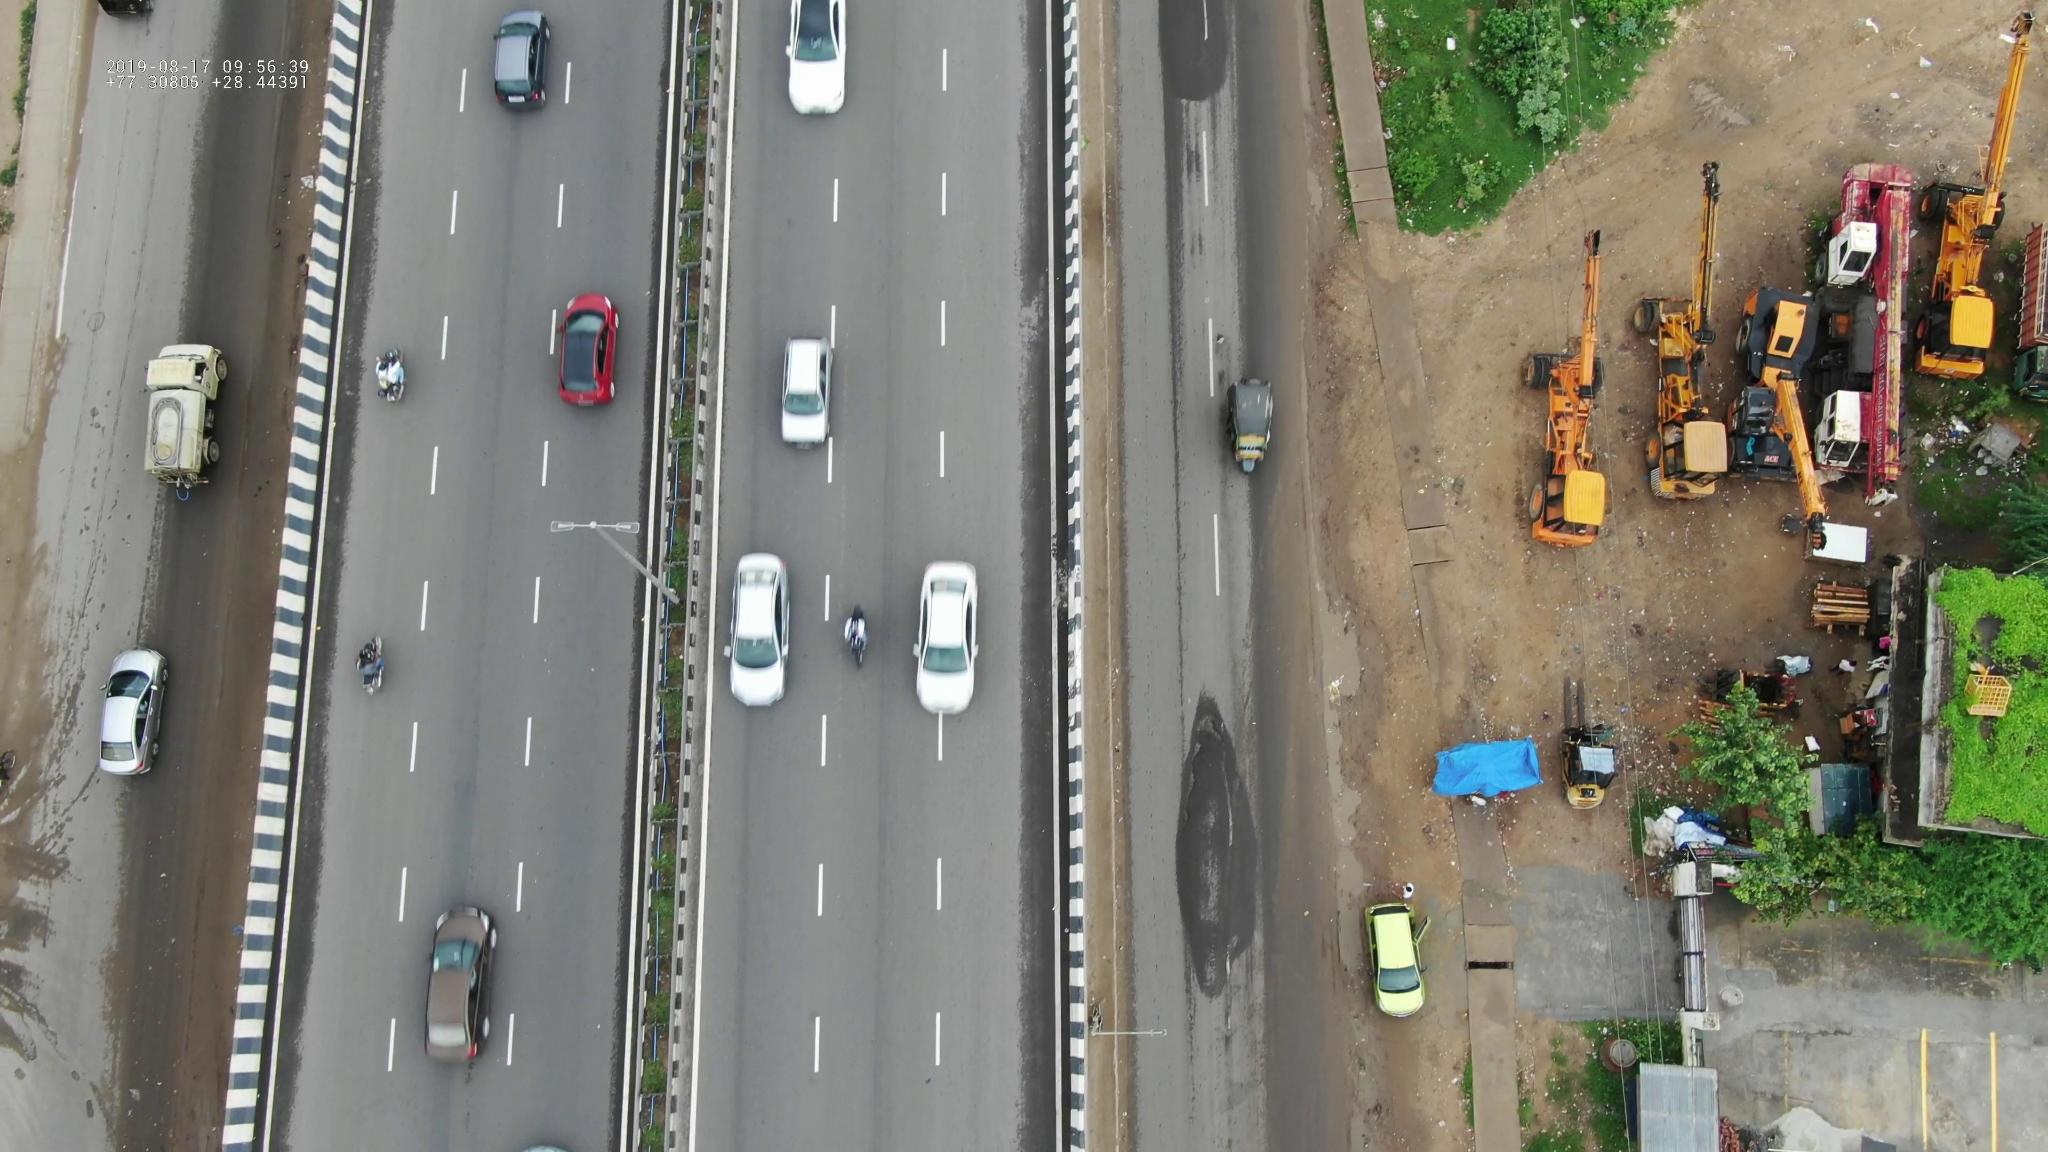Muddy_road: (243, 172, 311, 532), (215, 544, 286, 769)
